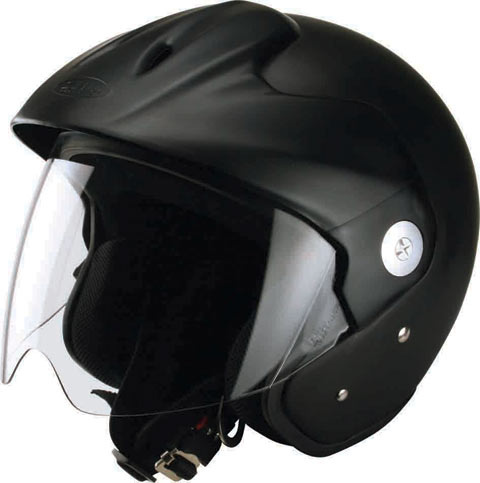helmet: (17, 14, 455, 428)
